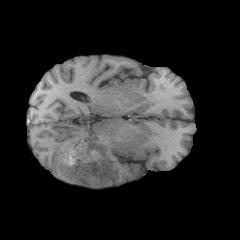glioma: (52, 137, 109, 188)
